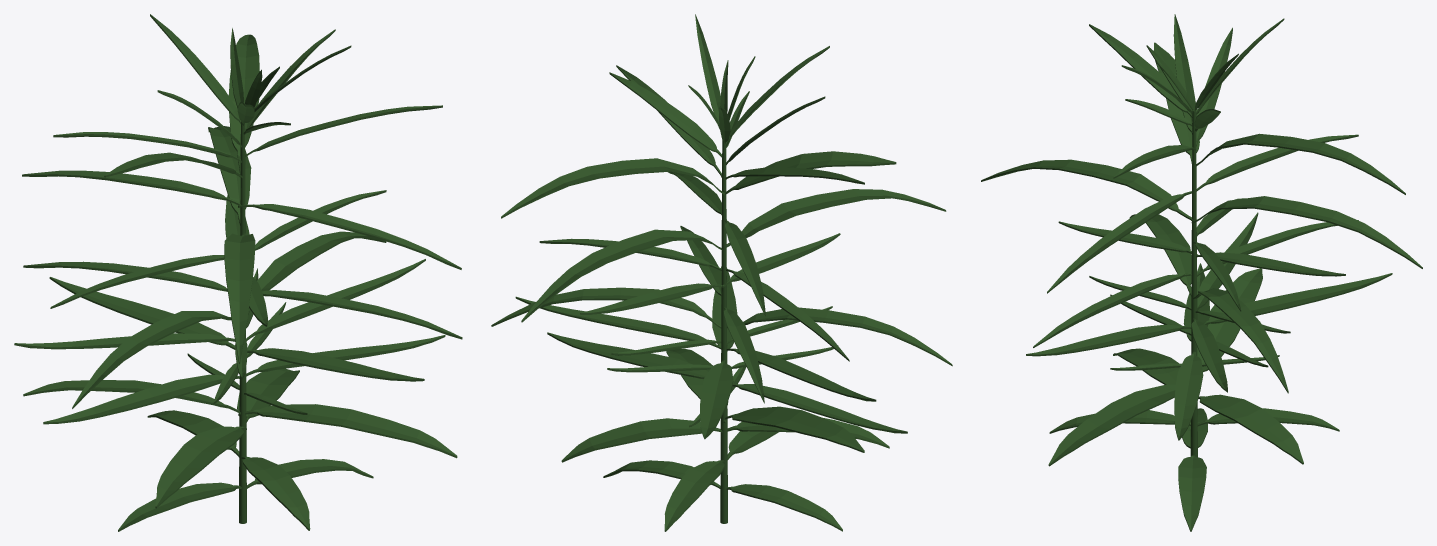
Rendered from DarkGreenPlant.fbx.
3 renders of one model, left to right at view 1: azimuth 30°, elevation 25°; view 2: azimuth 150°, elevation 25°; view 3: azimuth 270°, elevation 25°, orthographic. The views are drawn at different scales.
Visible parts, largest first — view 1: Plane_001, Cylinder; view 2: Plane_001, Cylinder; view 3: Plane_001, Cylinder.
Part boxes in pixels (box(x1,y1,x2,y2)): Plane_001: box(14, 14, 462, 531); Cylinder: box(239, 122, 246, 523); Plane_001: box(491, 14, 952, 531); Cylinder: box(720, 140, 727, 523); Plane_001: box(981, 14, 1422, 531); Cylinder: box(1190, 109, 1197, 457).
Size of the model in its own units: 22.65 by 26.02 by 23.
